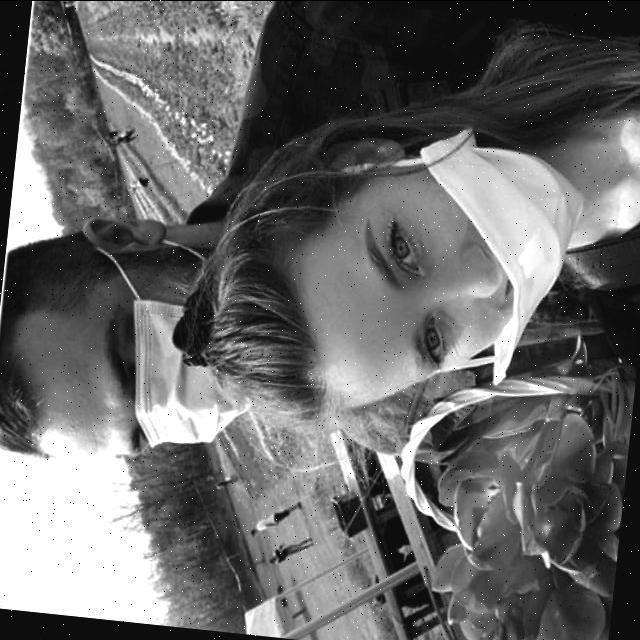mask: (142, 303, 208, 441)
no_gloves: (6, 256, 98, 447), (193, 233, 309, 375)
no_hairnet: (396, 157, 578, 330)
